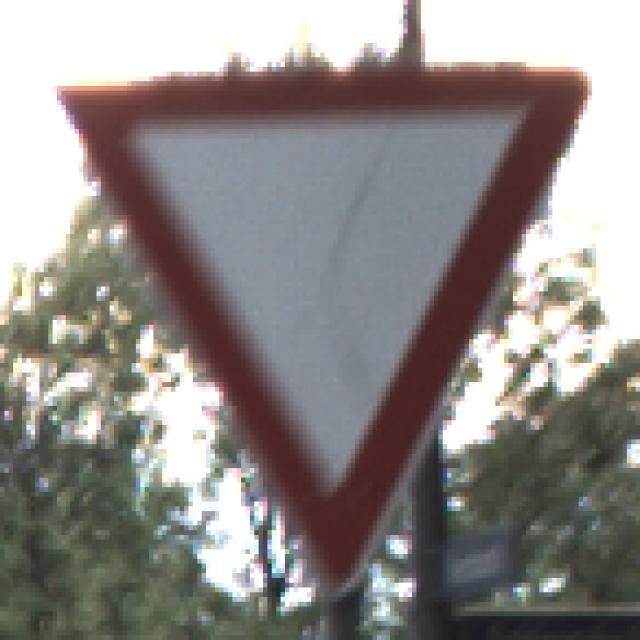Give Way: (58, 59, 584, 589)
